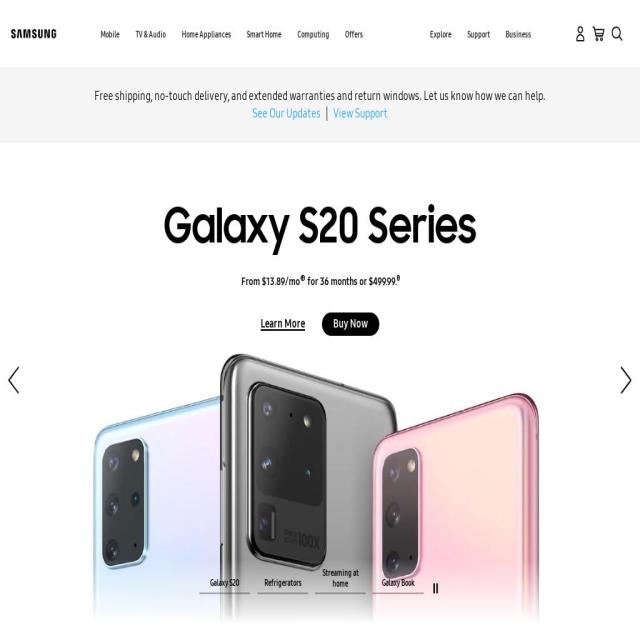button: (322, 312, 379, 336), (315, 566, 366, 592), (0, 363, 29, 402), (611, 363, 640, 402), (574, 0, 587, 67), (257, 576, 308, 592), (372, 576, 423, 592), (593, 0, 605, 67), (611, 0, 623, 67), (200, 576, 250, 592), (260, 316, 306, 332), (11, 29, 57, 39), (430, 582, 441, 596)
heading: (52, 202, 588, 259), (305, 275, 399, 288), (241, 275, 300, 288), (300, 273, 306, 284)
image: (0, 142, 640, 622), (0, 169, 640, 596), (11, 29, 57, 39), (574, 26, 587, 42), (593, 26, 605, 42), (611, 26, 623, 42)
link: (252, 106, 320, 121), (333, 106, 388, 121), (181, 30, 231, 40), (247, 30, 282, 40), (297, 30, 329, 40), (136, 30, 166, 40), (506, 30, 532, 40), (467, 30, 490, 40), (430, 30, 452, 40), (101, 30, 120, 40), (345, 30, 364, 40)
text: (39, 88, 601, 104), (315, 567, 366, 593), (257, 577, 308, 593), (372, 577, 423, 593), (200, 577, 250, 593), (321, 105, 333, 121)
